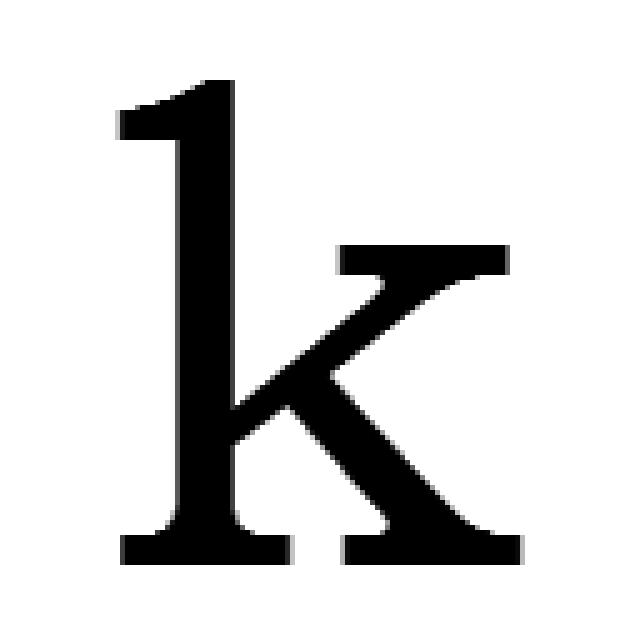K: (99, 68, 532, 556)
